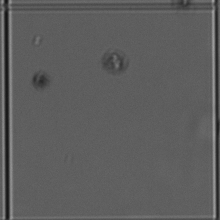Dead Cell: (103, 48, 127, 74), (32, 70, 51, 90)
